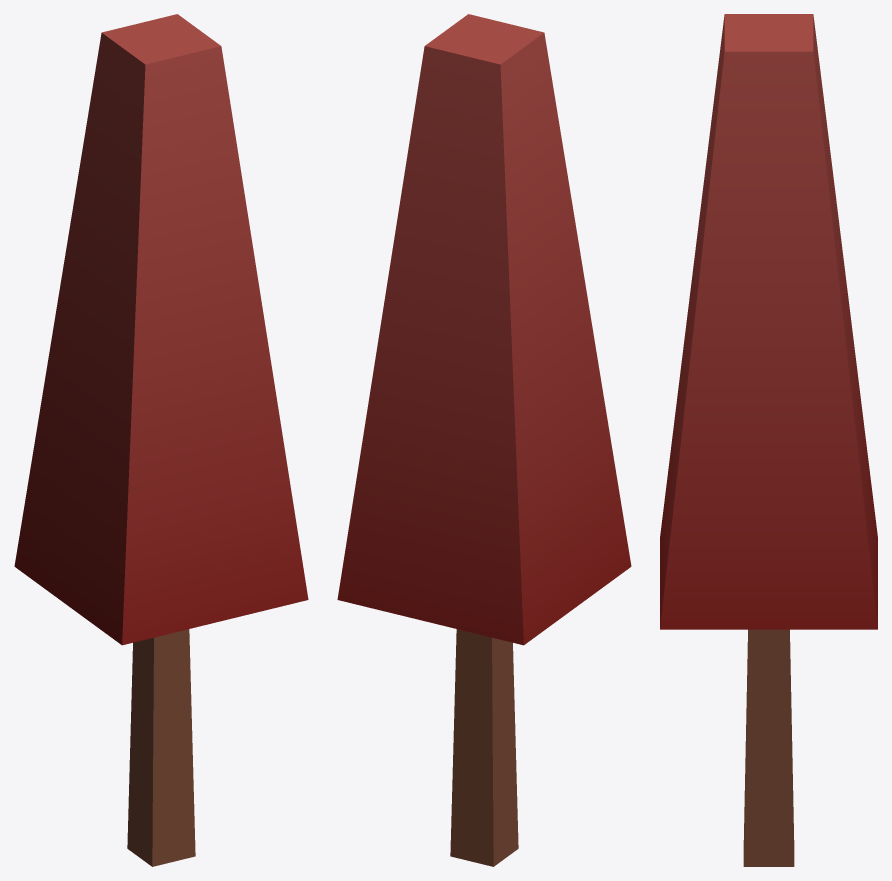
File: Tree_26_gradient_red_vc.fbx
3 views of the same model, side by side, from view 1: azimuth 30°, elevation 25°; view 2: azimuth 150°, elevation 25°; view 3: azimuth 270°, elevation 25° (orthographic).
Parts seen in each view (by area): view 1: Tree_26_gradient_red_vc; view 2: Tree_26_gradient_red_vc; view 3: Tree_26_gradient_red_vc.
Boxes of the visible parts, x1,y1,x2,y2 form: Tree_26_gradient_red_vc: [14, 14, 308, 866]; Tree_26_gradient_red_vc: [337, 14, 631, 866]; Tree_26_gradient_red_vc: [660, 14, 877, 866].
Bounding box in the file's own units: 63.19 × 263 × 63.19.
